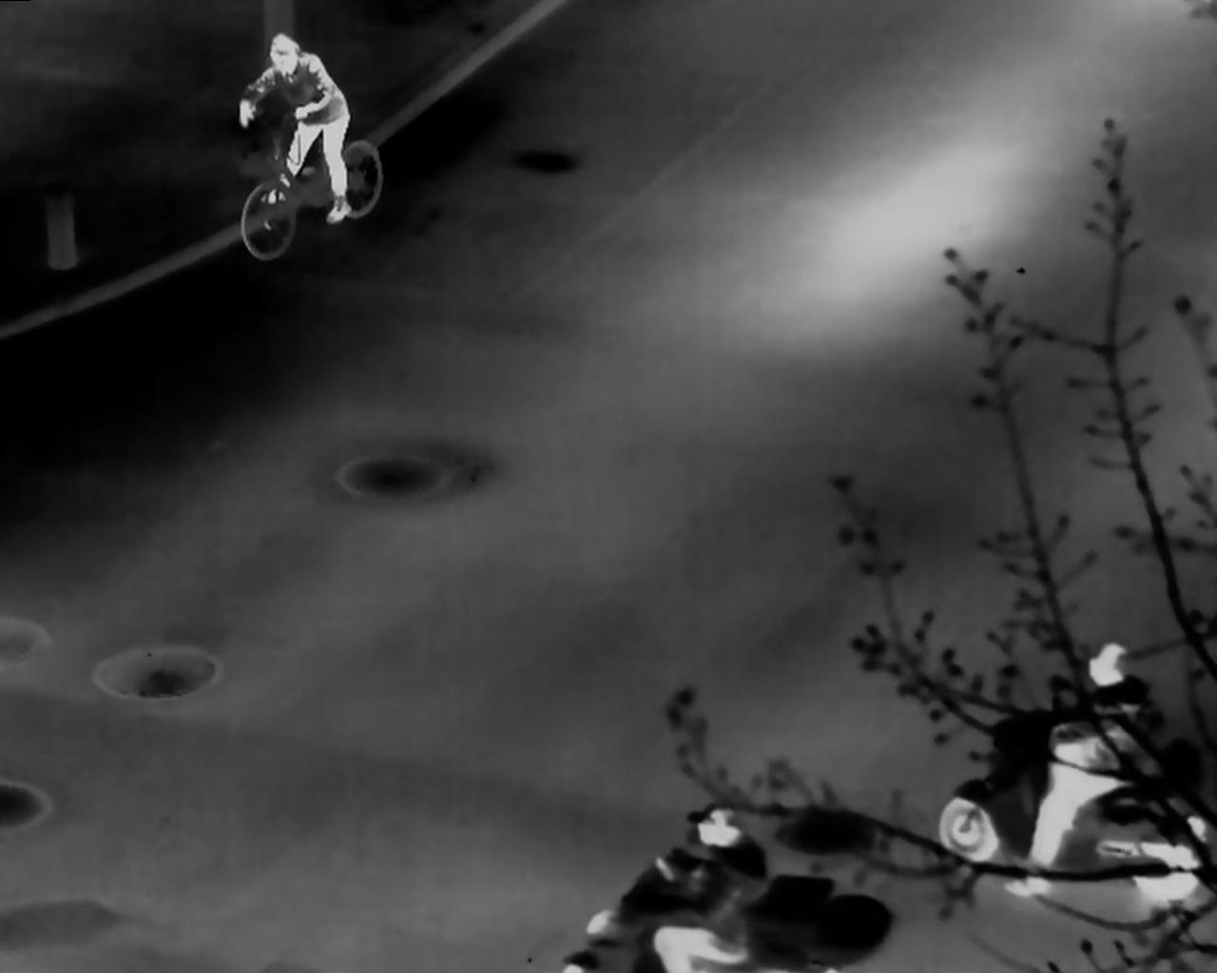person: (228, 29, 357, 232), (1057, 648, 1162, 888), (670, 805, 776, 962)
